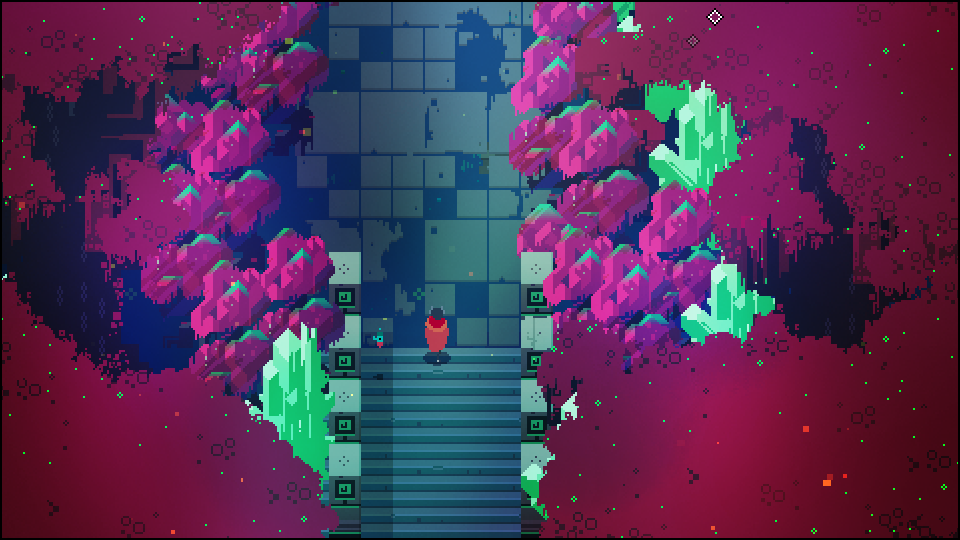player: (421, 302, 452, 370)
